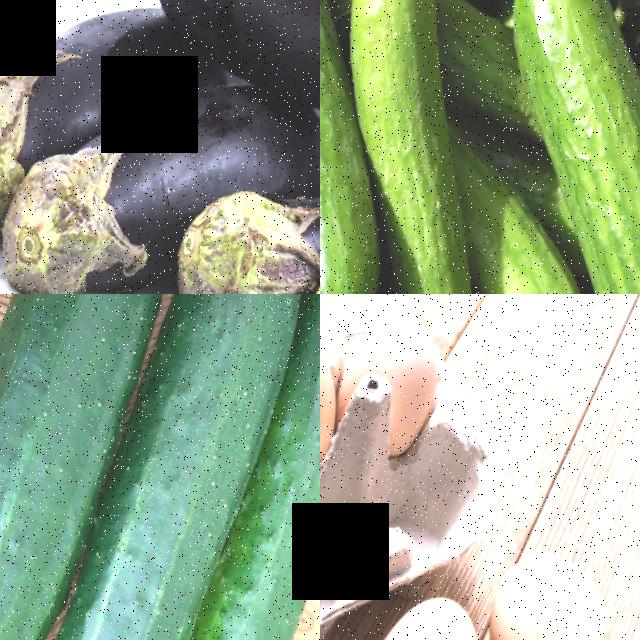cucumber: (0, 294, 320, 640), (0, 294, 251, 640), (95, 294, 320, 640), (440, 0, 640, 214), (320, 0, 502, 162), (320, 134, 424, 294)
egg_: (450, 533, 640, 640), (320, 571, 510, 640), (339, 294, 454, 399), (320, 318, 350, 442)
eggplant: (0, 27, 250, 294), (101, 0, 320, 175)
